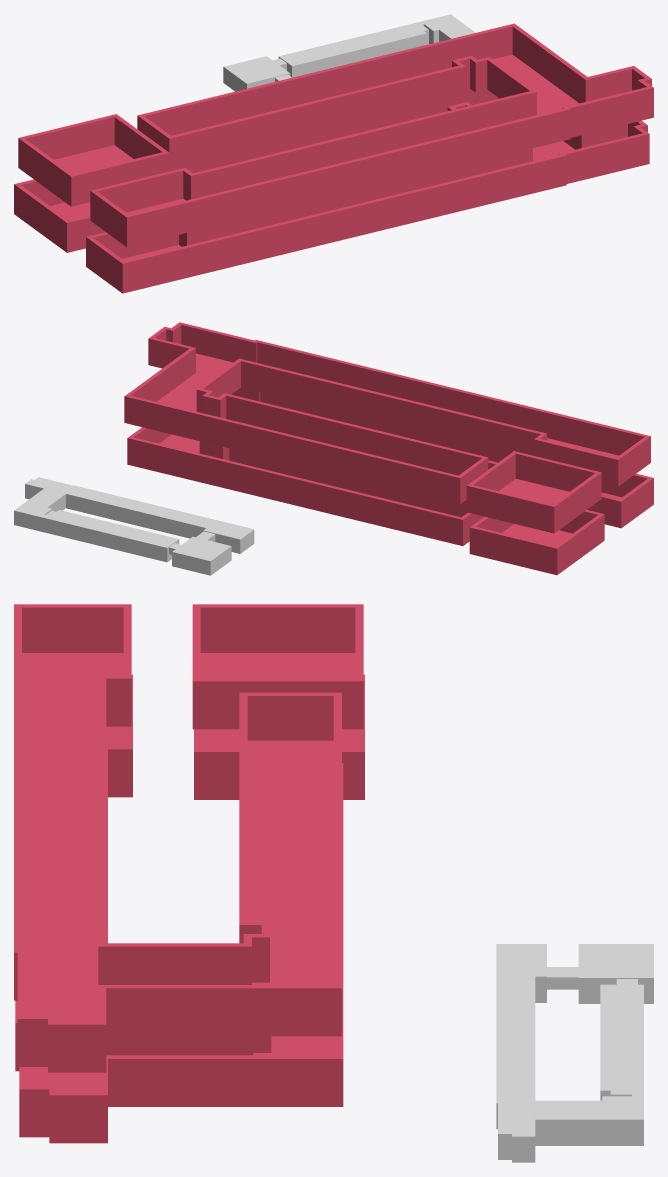
File: qqqqqwe.glb
The picture shows the model from 3 angles, top to bottom: view 1: azimuth 30°, elevation 25°; view 2: azimuth 150°, elevation 25°; view 3: azimuth 270°, elevation 25°; orthographic projection. The views are drawn at different scales.
Visible parts, largest first — view 1: F2, F1, Cube; view 2: F2, F1, Cube; view 3: F2, F1, Cube.
Boxes of the visible parts, x1,y1,x2,y2 form: F2: (18,23,653,247); F1: (14,88,649,293); Cube: (223,14,475,91); F2: (124,322,650,533); F1: (127,388,653,575); Cube: (14,477,254,575); F2: (14,604,363,1072); F1: (15,674,364,1143); Cube: (496,944,653,1162).
Bounding box in the file's own units: 10.53 × 1.54 × 6.66.
